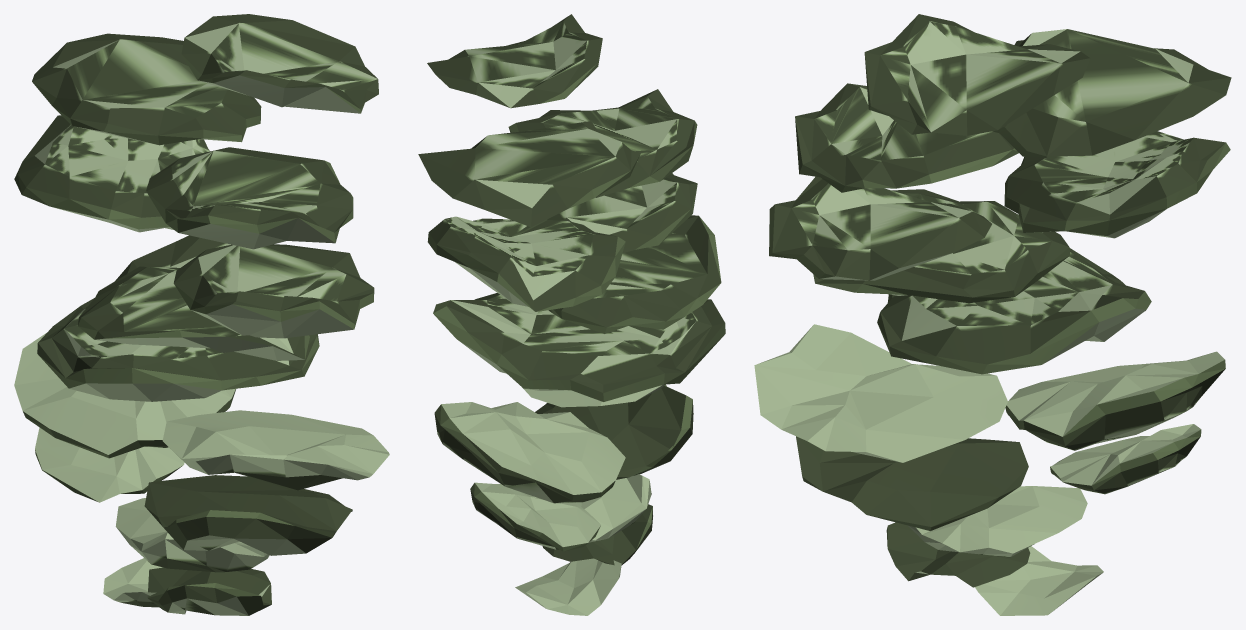
File: EA_Swamp_Fungus_03a.glb
3 views of the same model, side by side, from view 1: azimuth 30°, elevation 25°; view 2: azimuth 150°, elevation 25°; view 3: azimuth 270°, elevation 25° (orthographic). The views are drawn at different scales.
Visible parts, largest first — view 1: EA_Swamp_Fungus_03a; view 2: EA_Swamp_Fungus_03a; view 3: EA_Swamp_Fungus_03a.
Boxes of the visible parts, box(x1,y1,x2,y2) form: EA_Swamp_Fungus_03a: box(14, 14, 389, 615); EA_Swamp_Fungus_03a: box(418, 14, 725, 615); EA_Swamp_Fungus_03a: box(754, 14, 1231, 615).
Bounding box in the file's own units: 0.4515 × 0.8247 × 0.6008.
Materials: 1 (1 with a texture image).
